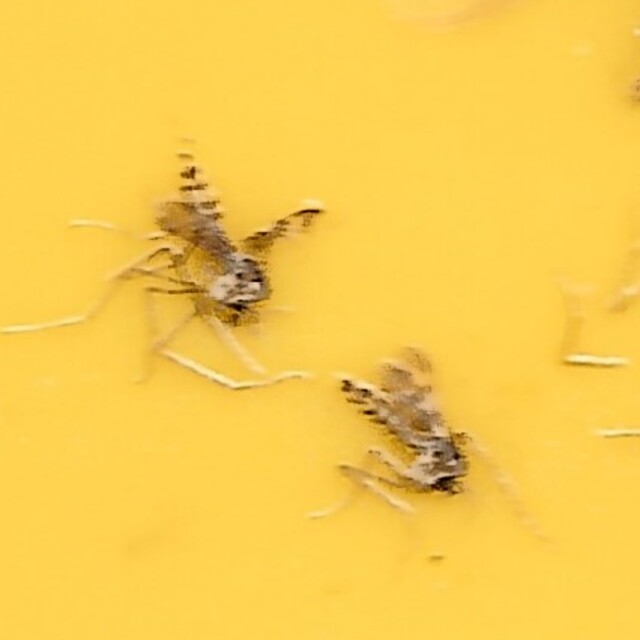Nematocera: (150, 136, 296, 334), (332, 361, 490, 504)
